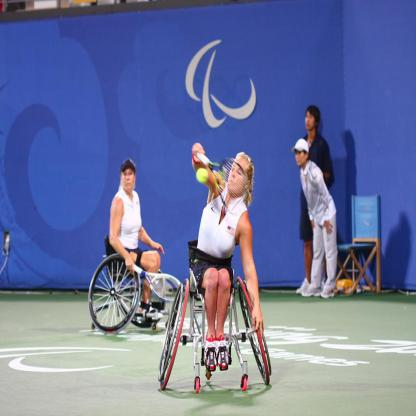face: (229, 158, 248, 196), (122, 169, 136, 192), (306, 112, 316, 130), (297, 150, 307, 166)
